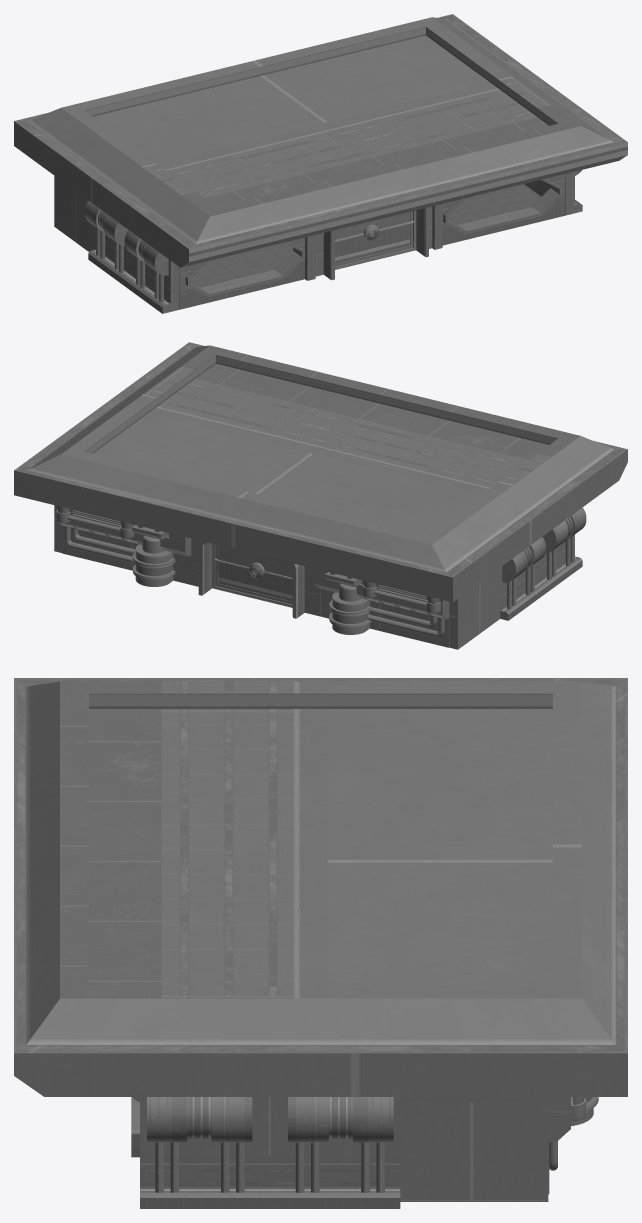
File: SM_house_02.glb
The picture shows the model from 3 angles, top to bottom: view 1: azimuth 30°, elevation 25°; view 2: azimuth 150°, elevation 25°; view 3: azimuth 270°, elevation 25°; orthographic projection. The views are drawn at different scales.
Parts seen in each view (by area): view 1: SM_house_02; view 2: SM_house_02; view 3: SM_house_02.
Part boxes in pixels (x1,y1,x2,y2): SM_house_02: (14,14,627,313); SM_house_02: (14,342,627,649); SM_house_02: (14,678,627,1208).
Bounding box in the file's own units: 27.28 × 6.41 × 18.86.
Materials: 3 (2 with a texture image).
